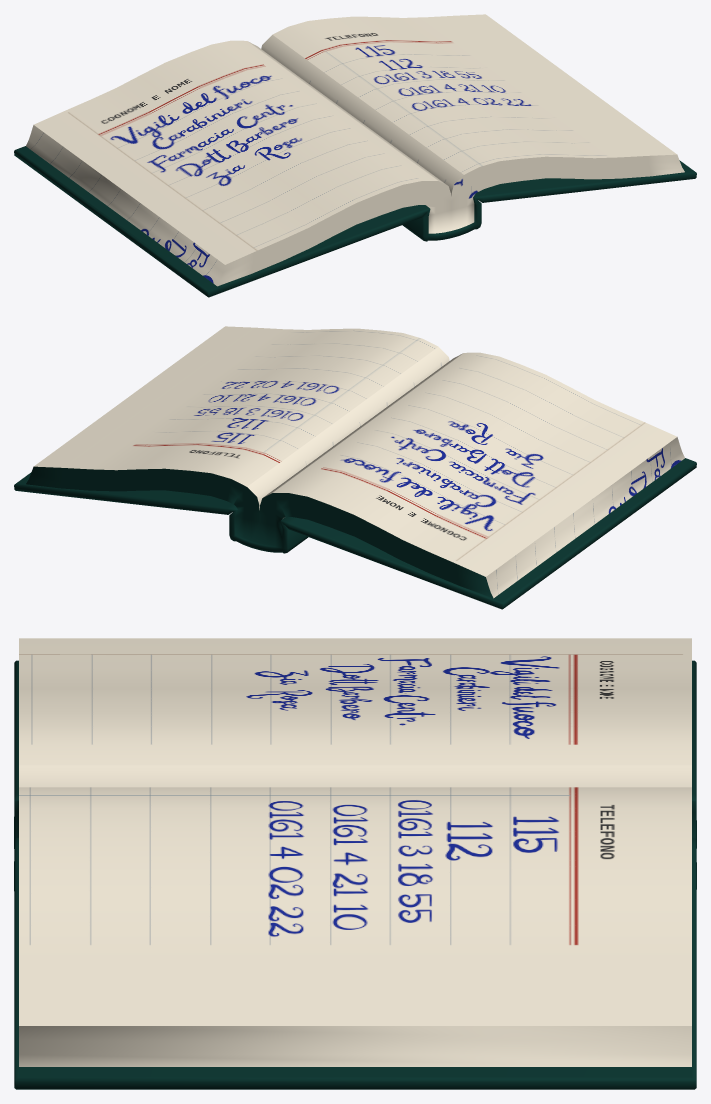
File: rubrica-future.glb
3 views of the same model, one above another, from view 1: azimuth 30°, elevation 25°; view 2: azimuth 150°, elevation 25°; view 3: azimuth 270°, elevation 25° (orthographic). The views are drawn at different scales.
Parts seen in each view (by area): view 1: rubrica-future; view 2: rubrica-future; view 3: rubrica-future.
Part boxes in pixels (x1,y1,x2,y2): rubrica-future: (14,14,696,297); rubrica-future: (14,326,696,609); rubrica-future: (14,638,696,1089).
Bounding box in the file's own units: 1.25 × 0.1611 × 0.8617.
Materials: 2 (1 with a texture image).
